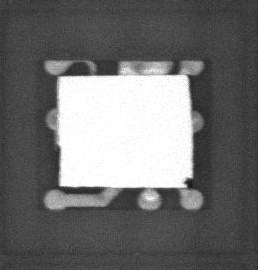DIE_BROKEN: (56, 144, 62, 186), (183, 74, 192, 95), (182, 175, 193, 188)
